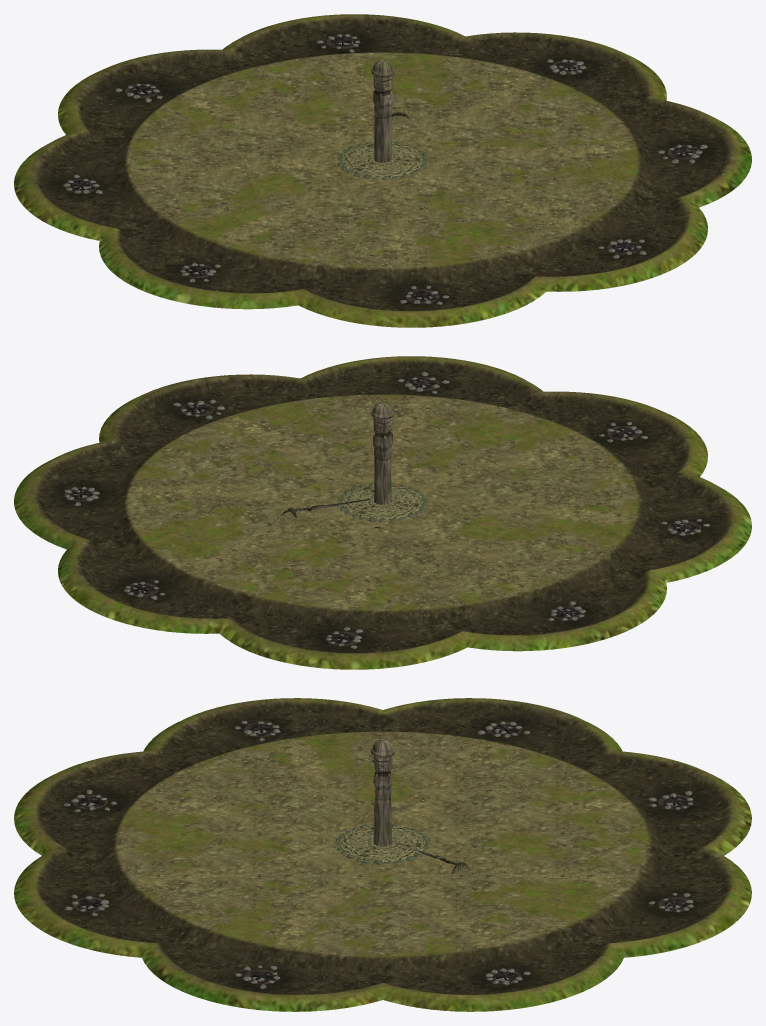
The model's file is sacred-decay.glb.
The picture shows the model from 3 angles, top to bottom: view 1: azimuth 30°, elevation 25°; view 2: azimuth 150°, elevation 25°; view 3: azimuth 270°, elevation 25°; orthographic projection. The views are drawn at different scales.
Visible parts, largest first — view 1: shrine-ground-overgrown, shrine-fires-cold, shrine-paving-overgrown, shrine-idol-weathered; view 2: shrine-ground-overgrown, shrine-fires-cold, shrine-paving-overgrown, shrine-idol-weathered; view 3: shrine-ground-overgrown, shrine-fires-cold, shrine-paving-overgrown, shrine-idol-weathered.
Part boxes in pixels (left/top/right/bottom): shrine-ground-overgrown: left=14, top=14, right=751, bottom=327; shrine-fires-cold: left=62, top=34, right=707, bottom=304; shrine-paving-overgrown: left=337, top=141, right=428, bottom=179; shrine-idol-weathered: left=371, top=59, right=394, bottom=152; shrine-ground-overgrown: left=14, top=356, right=751, bottom=669; shrine-fires-cold: left=64, top=371, right=709, bottom=649; shrine-paving-overgrown: left=337, top=482, right=428, bottom=521; shrine-idol-weathered: left=371, top=402, right=394, bottom=494; shrine-ground-overgrown: left=14, top=698, right=751, bottom=1011; shrine-fires-cold: left=63, top=720, right=693, bottom=988; shrine-paving-overgrown: left=335, top=823, right=430, bottom=864; shrine-idol-weathered: left=370, top=739, right=395, bottom=835.
Bounding box in the file's own units: 29.11 × 5.12 × 29.11.
Materials: 4 (4 with a texture image).
